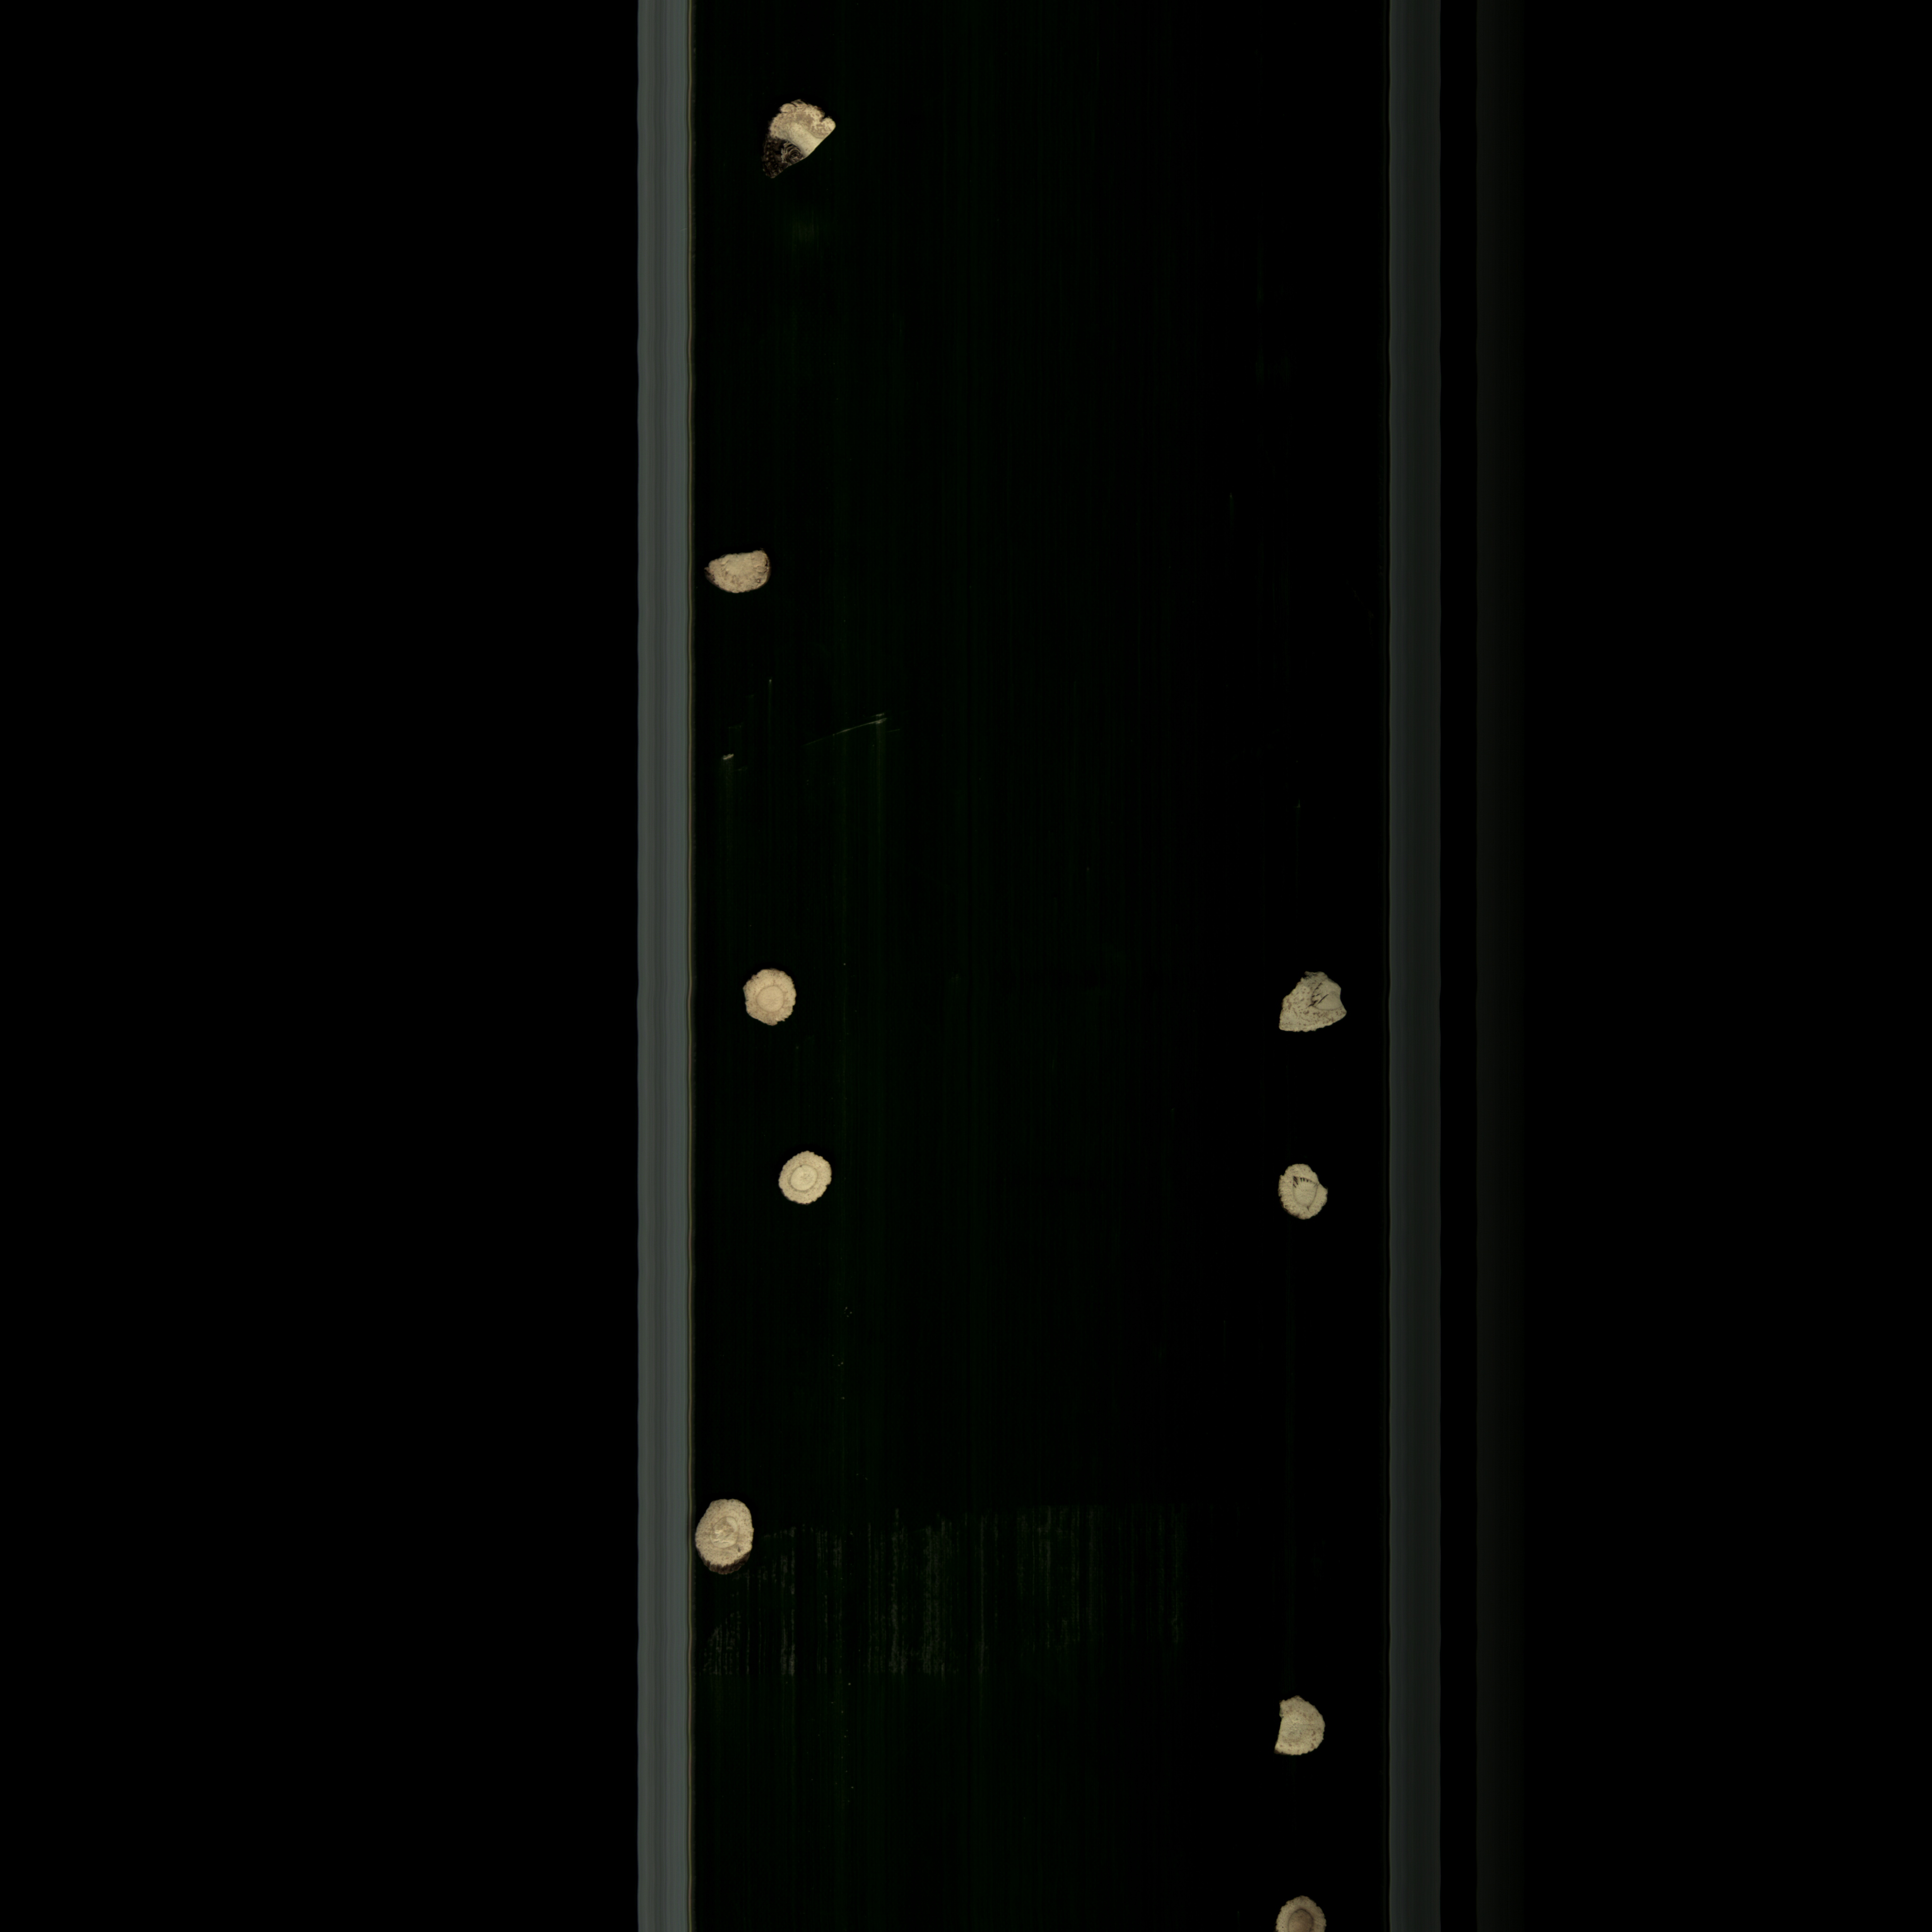debris: (1258, 947, 1364, 1049), (741, 94, 860, 177), (1260, 1686, 1345, 1769), (694, 548, 794, 609)
hole: (1261, 1139, 1339, 1237)
moldy: (1270, 1881, 1338, 1932)
